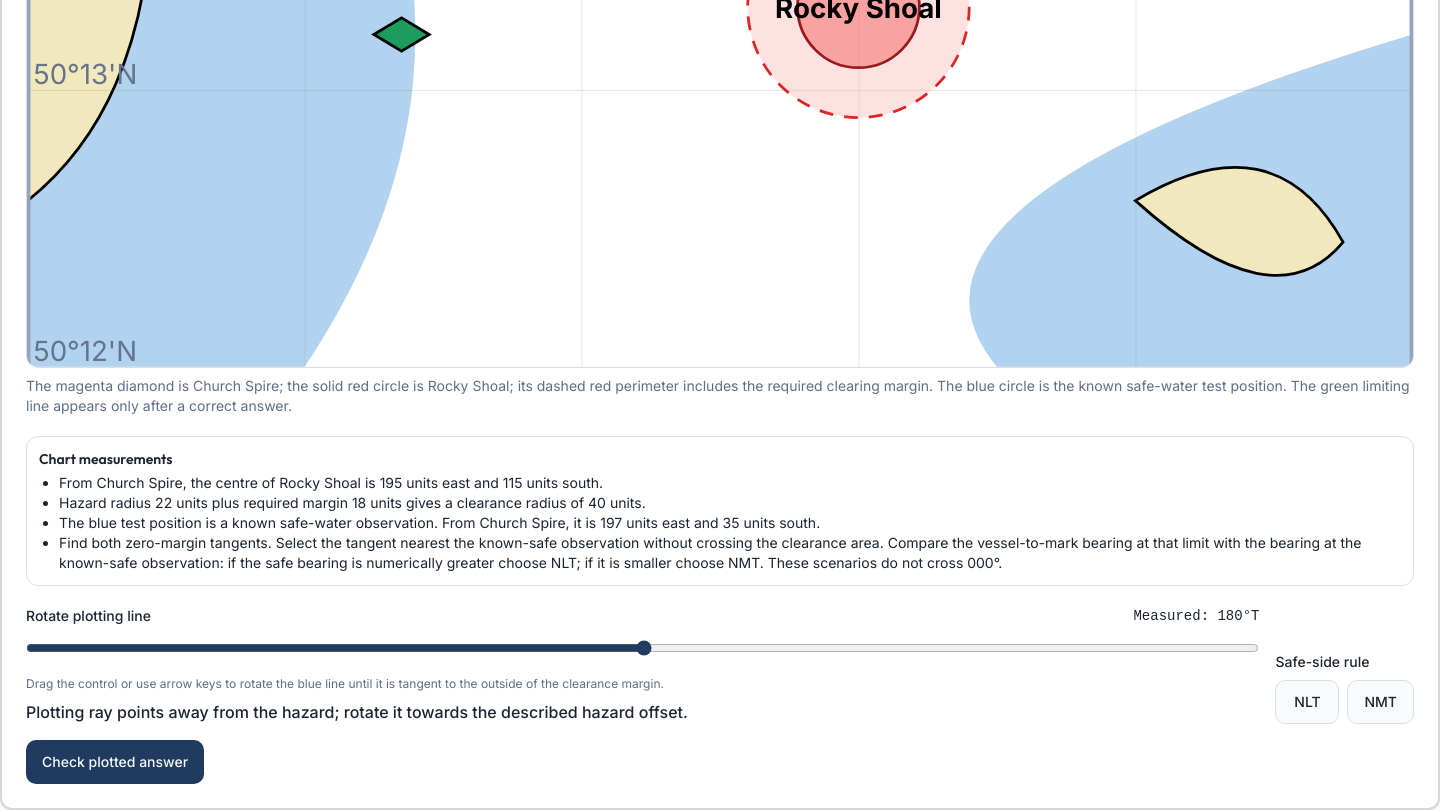
Test: ClearingBearingTool › advances only after scenario one is mastered
(page scrolled)
expect the button "next scenario" is not shown: met
Set the slider labelled "Rotate plotting line" to "290" at (1017, 648), box [26,626,1260,670]
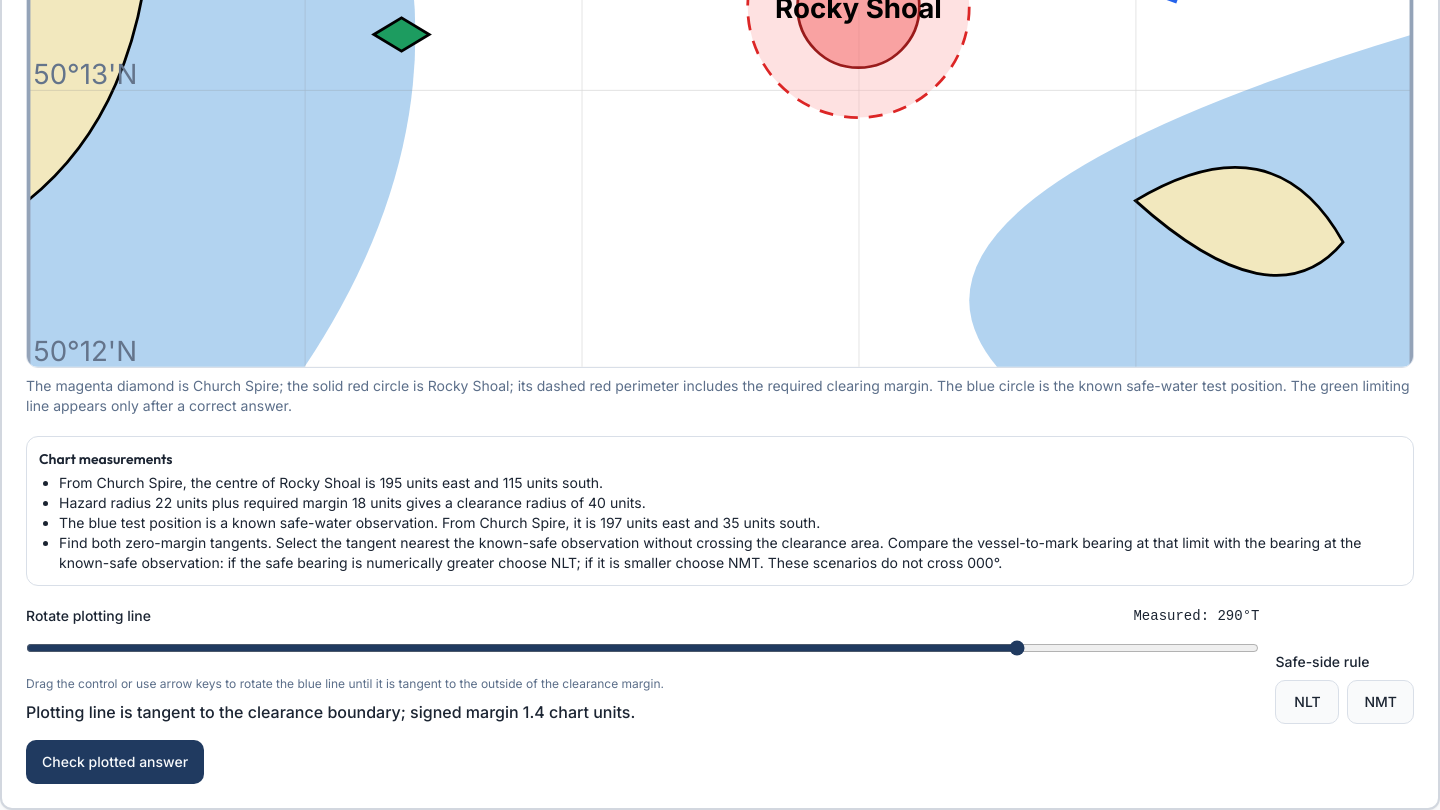
Click the button "NMT" at (1381, 702), box [1348,680,1414,724]
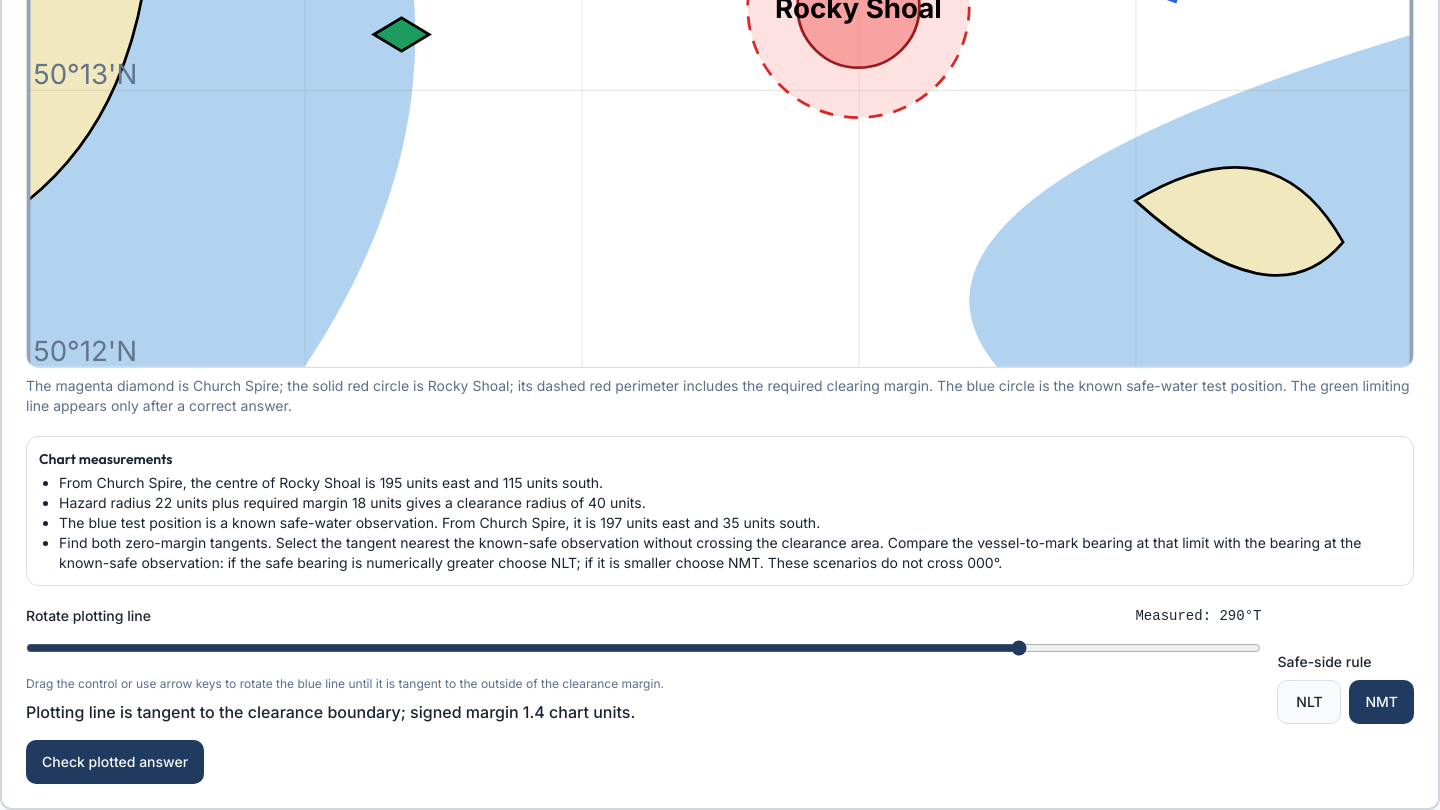
Click the button "Check plotted answer" at (115, 762), box [26,740,204,784]
(page scrolled)
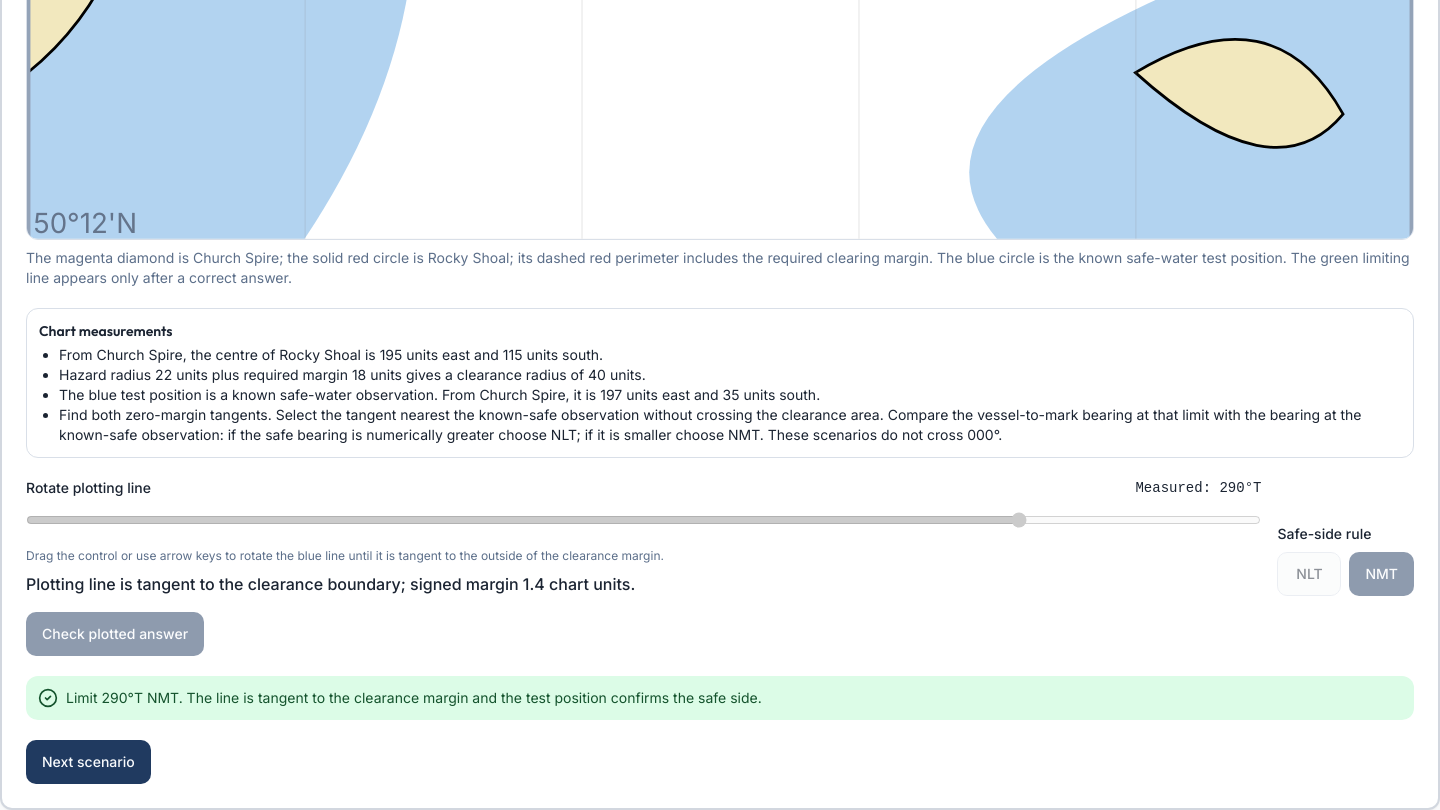
Click the button "Next scenario" at (88, 762), box [26,740,151,784]
(page scrolled)
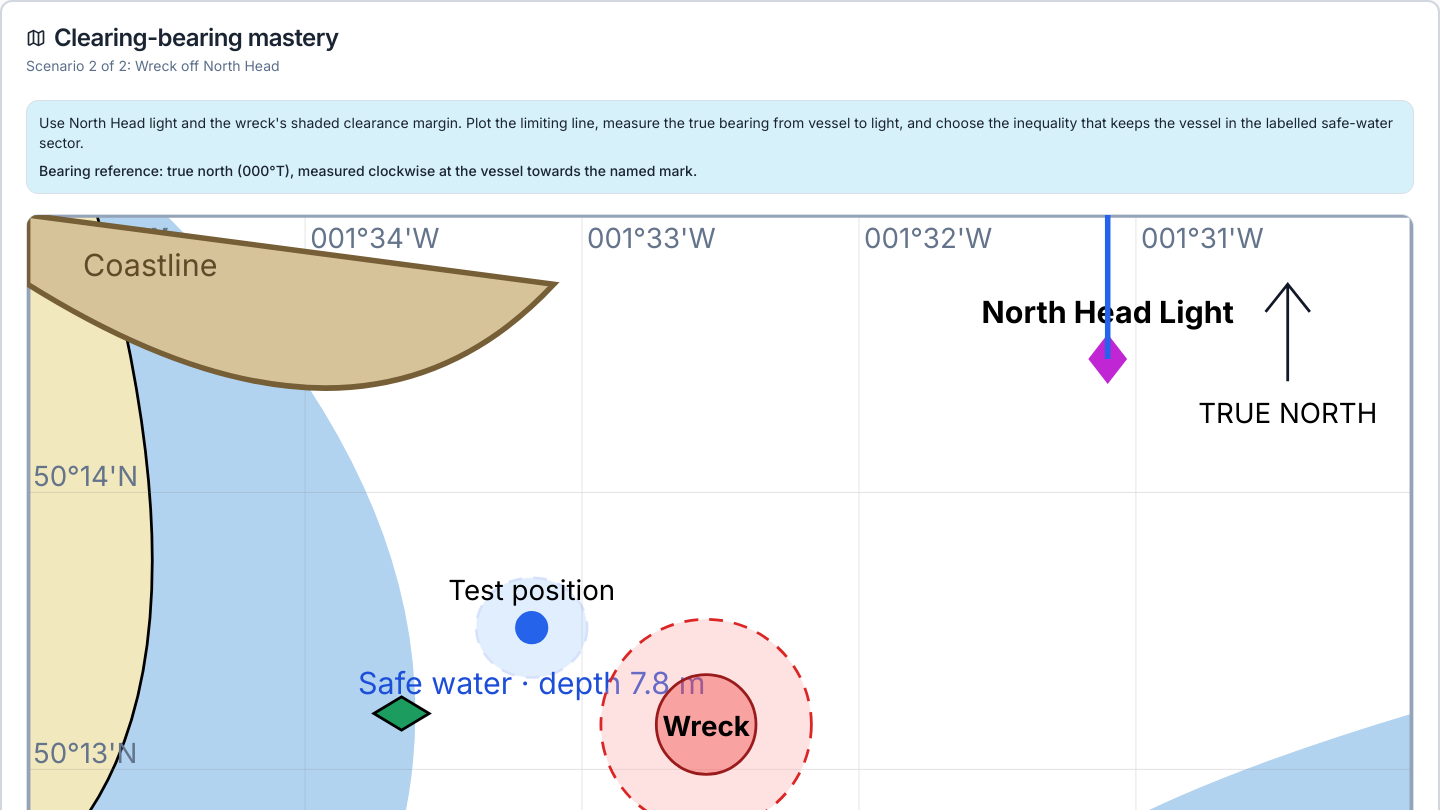
expect the text "Scenario 2 of 2: Wreck off North Head" is shown: met, box [26,57,280,74]
